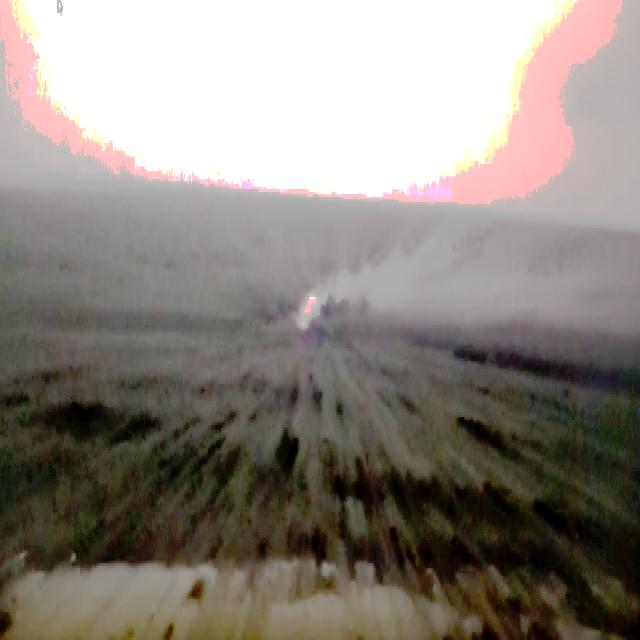asap: (288, 226, 410, 357)
